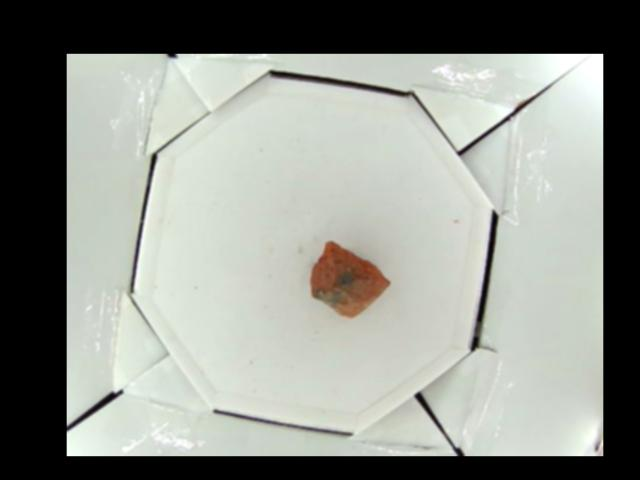Brisk: (312, 241, 388, 317)
